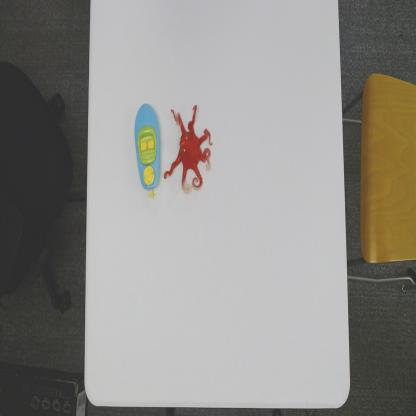Boat: (134, 102, 161, 200)
Octopus: (163, 103, 213, 195)
